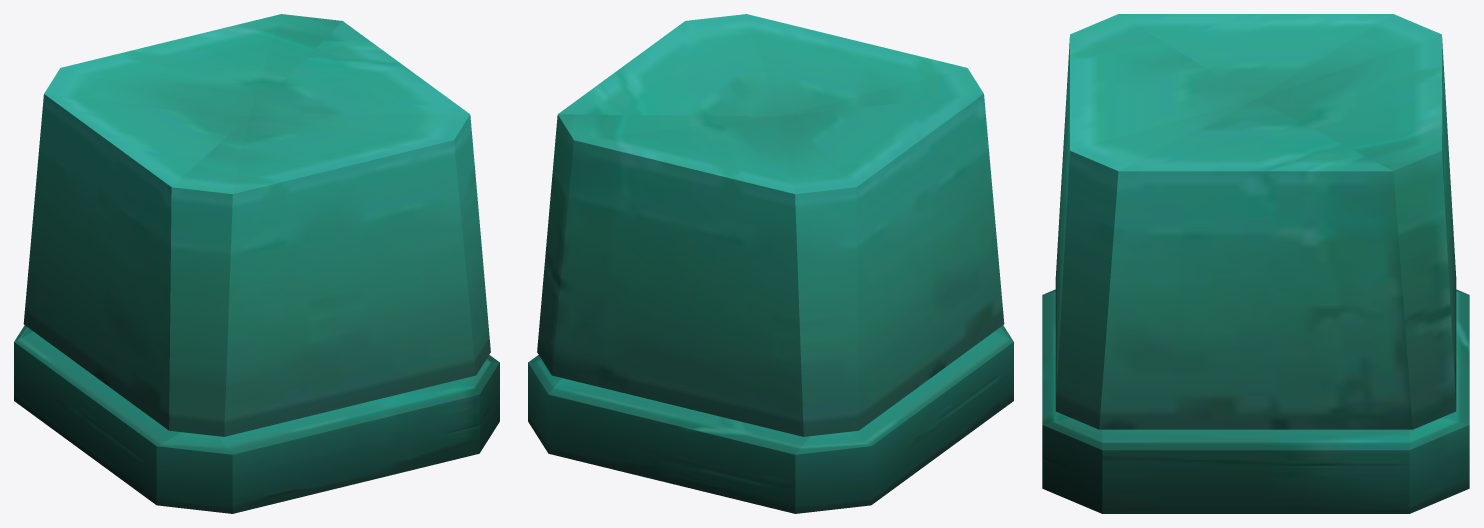
Rendered from wall_column8 (merge).fbx.
The picture shows the model from 3 angles, left to right: view 1: azimuth 30°, elevation 25°; view 2: azimuth 150°, elevation 25°; view 3: azimuth 270°, elevation 25°; orthographic projection. The views are drawn at different scales.
Visible parts, largest first — view 1: wall_column8; view 2: wall_column8; view 3: wall_column8.
Boxes of the visible parts, box(x1,y1,x2,y2) form: wall_column8: box(14, 14, 499, 513); wall_column8: box(528, 14, 1013, 513); wall_column8: box(1042, 14, 1469, 513).
Bounding box in the file's own units: 0.9862 × 0.8435 × 0.9862.
